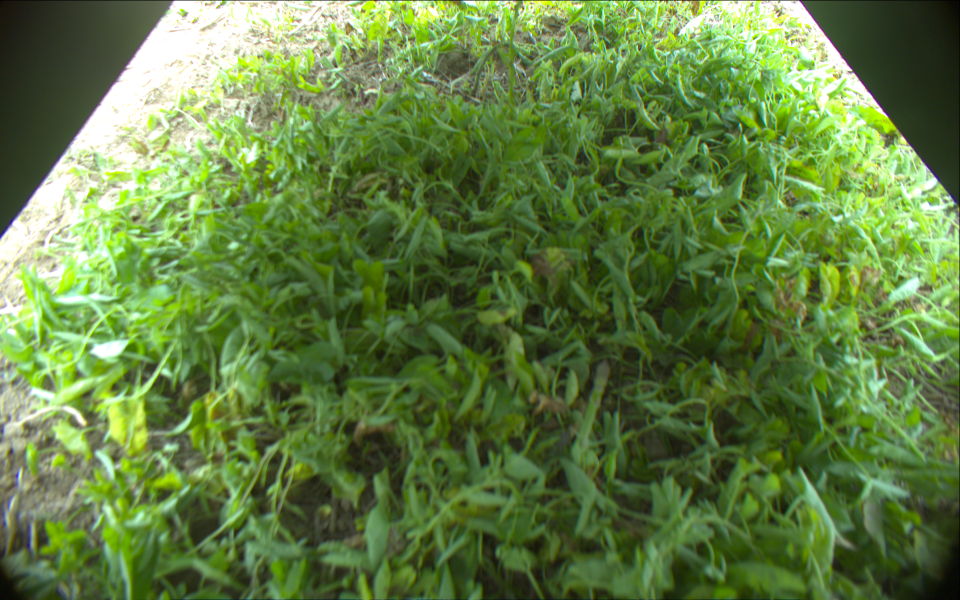aspa: (578, 361, 610, 447)
